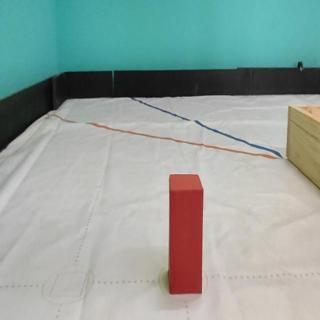redbox: (169, 174, 203, 294)
